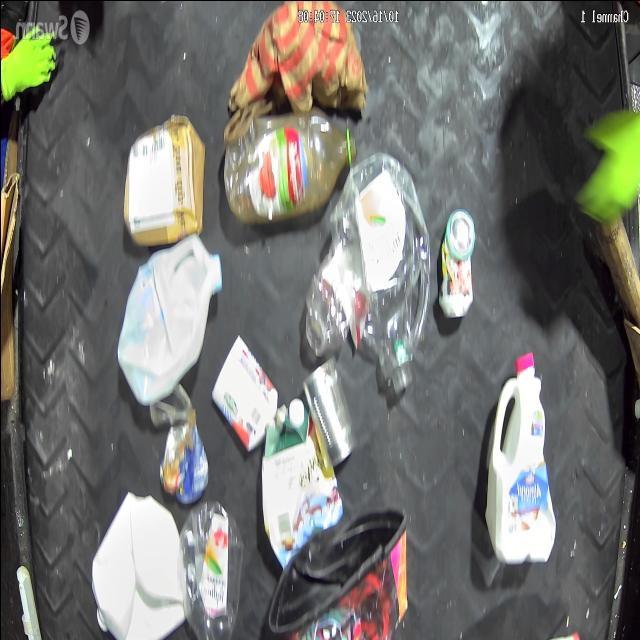milk_jug: (114, 228, 226, 404), (90, 489, 184, 640), (489, 340, 549, 560)
non_white_jug: (228, 102, 354, 216)
plastic_bottle: (341, 153, 431, 400), (185, 498, 239, 634)
